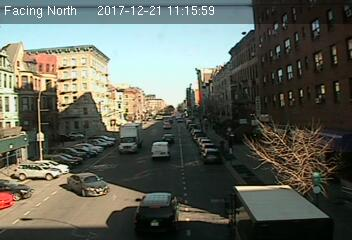car: (135, 191, 177, 235), (67, 172, 109, 197), (200, 146, 221, 163), (162, 133, 174, 144)
truck: (119, 123, 143, 153), (151, 142, 170, 160)
ups: (228, 184, 334, 240)
